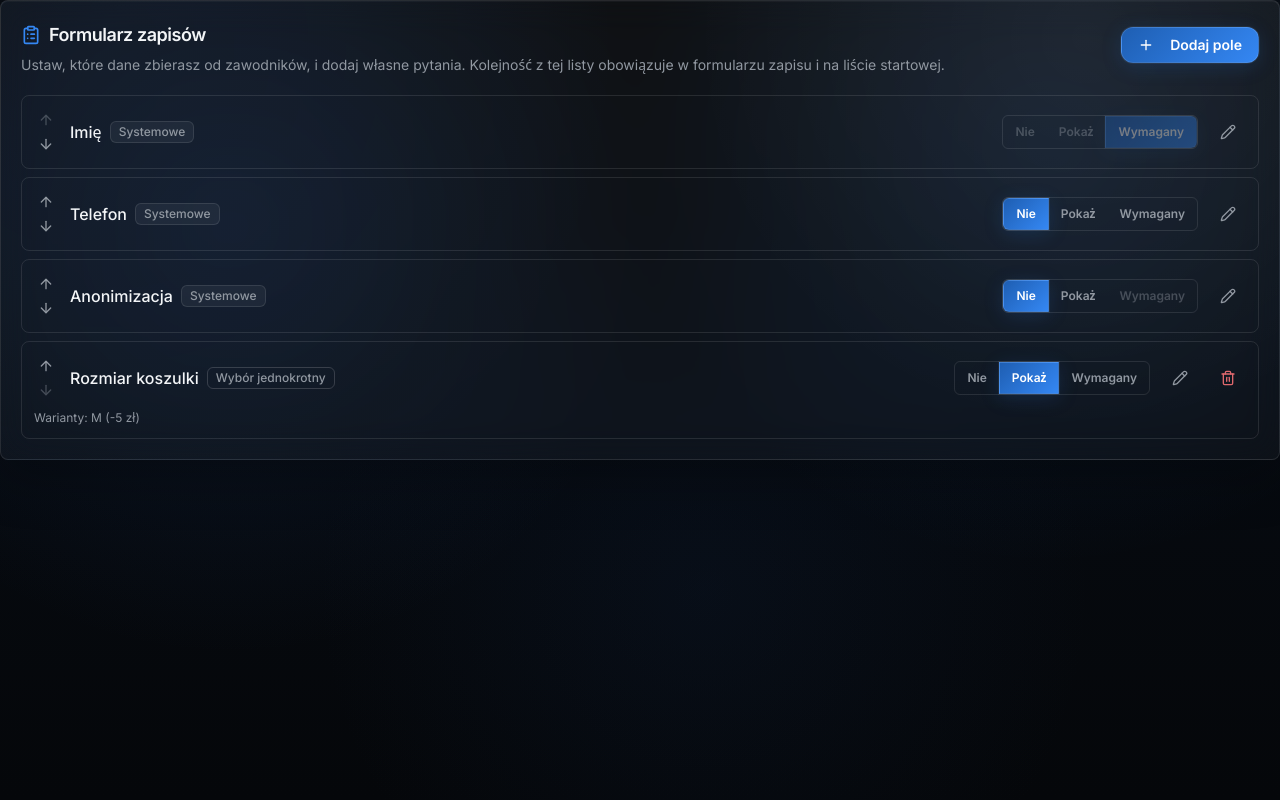
Test: FormFieldsTab › explains a 409 when a used variant is removed
Click the button named "Edytuj: Rozmiar koszulki": (1180, 378) [1162,360,1198,396]
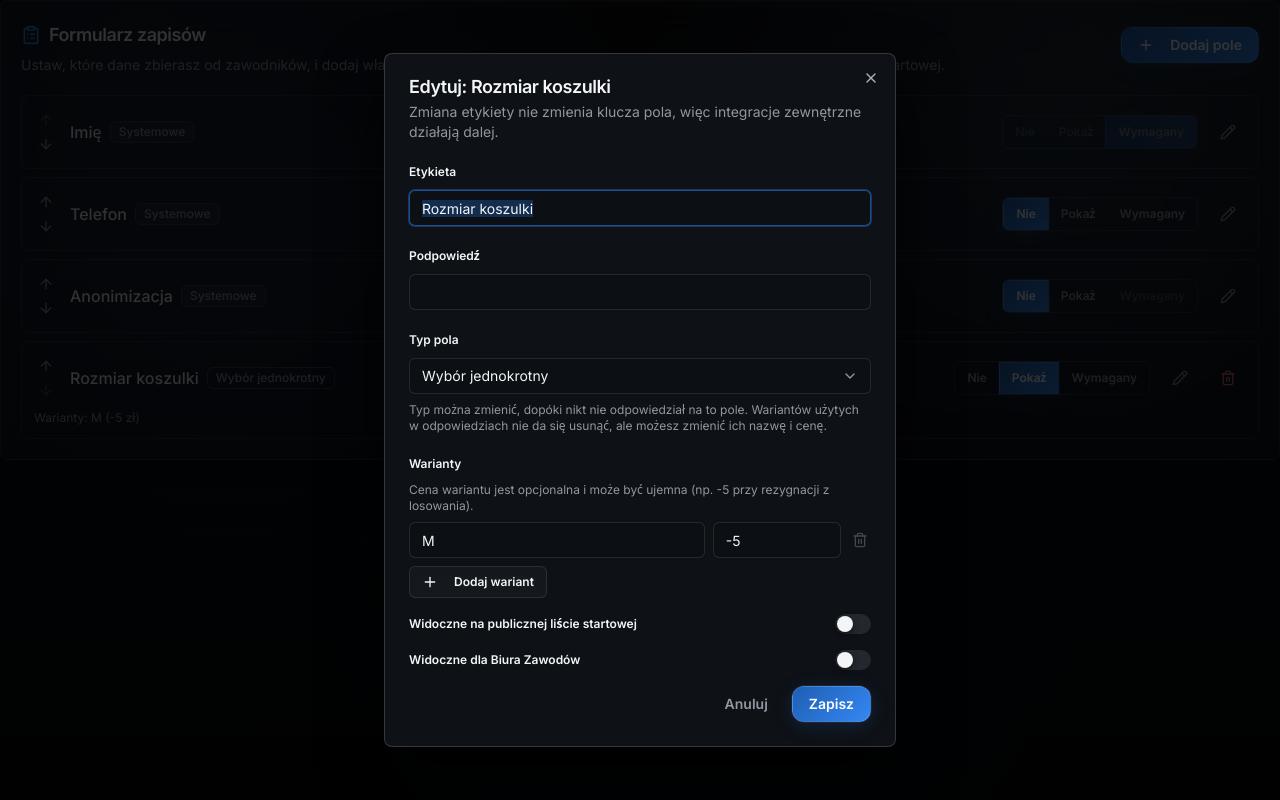
Click the button "Zapisz": (831, 704) [792,686,871,722]
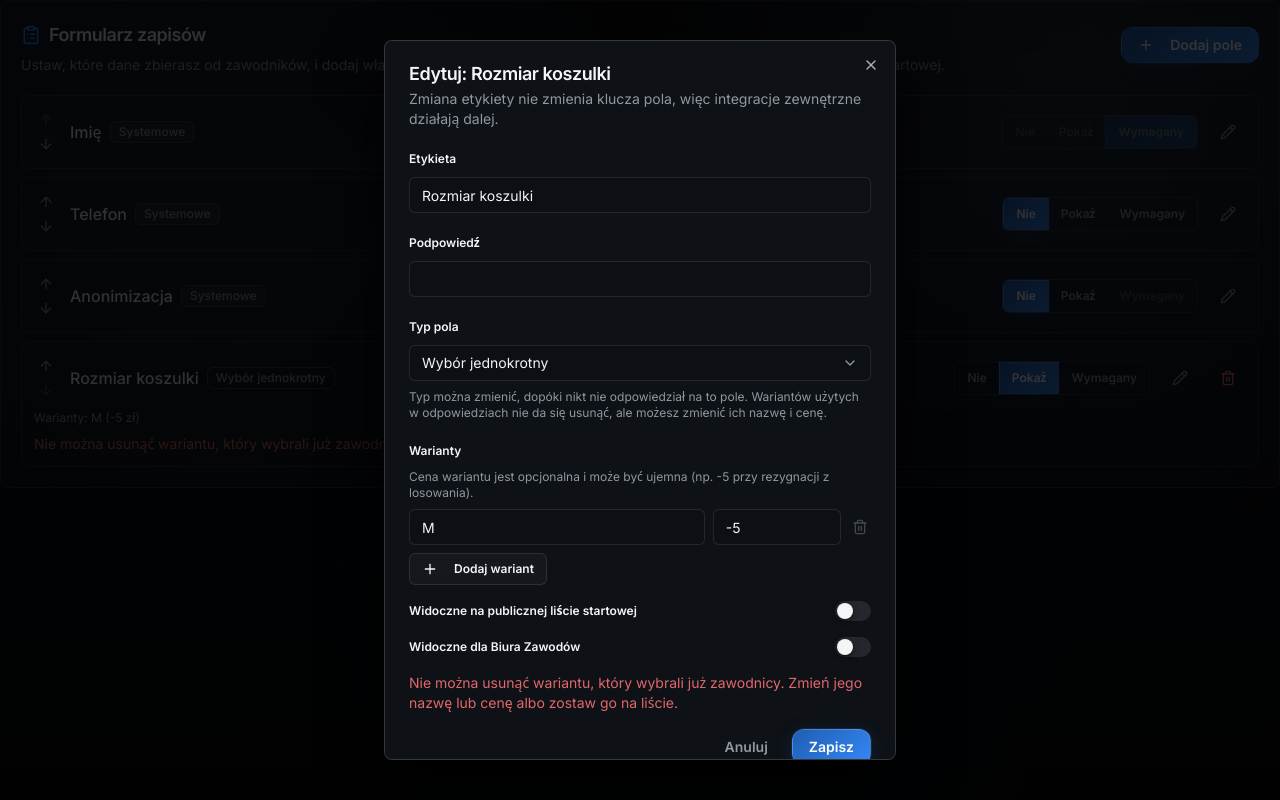
Result: the message shows "wybrali już zawodnicy" at [409,674,862,711]
